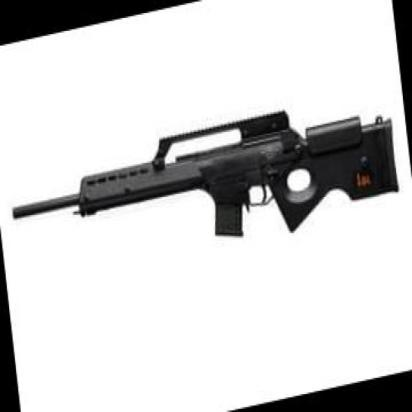Gun: (14, 108, 403, 238)
